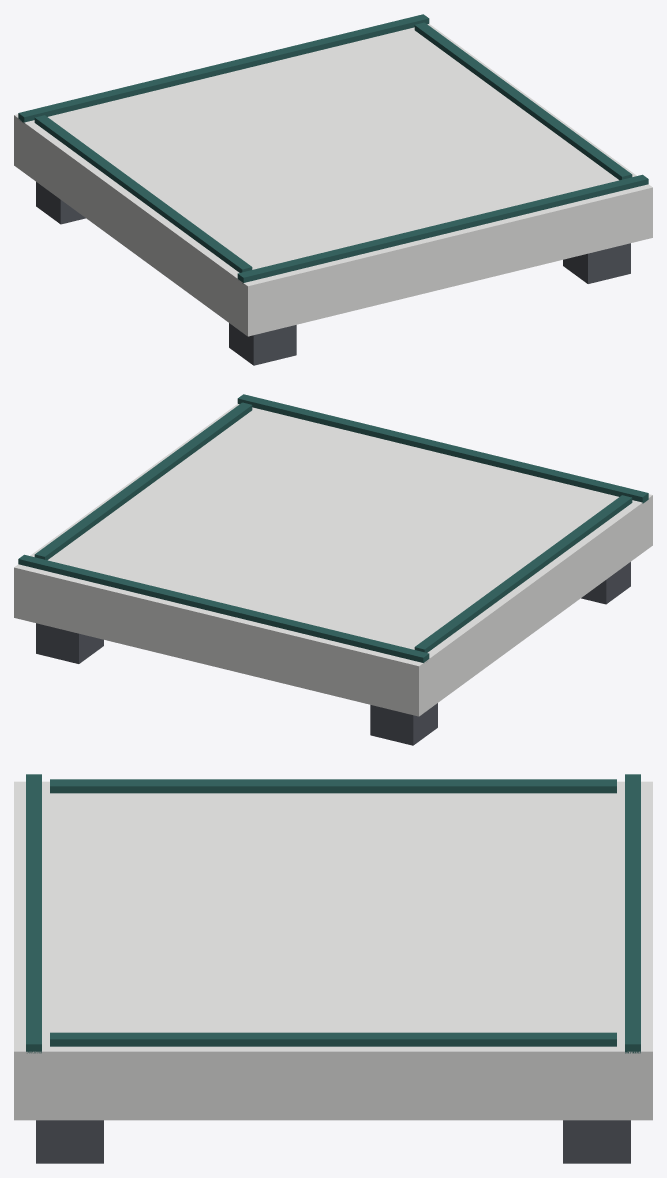
File: Platform_M.fbx
3 renders of one model, top to bottom at view 1: azimuth 30°, elevation 25°; view 2: azimuth 150°, elevation 25°; view 3: azimuth 270°, elevation 25°, orthographic. The views are drawn at different scales.
Parts seen in each view (by area): view 1: SM_Platform_M; view 2: SM_Platform_M; view 3: SM_Platform_M.
Boxes of the visible parts, x1=… form: SM_Platform_M: x1=14, y1=14, x2=652, y2=365; SM_Platform_M: x1=14, y1=394, x2=652, y2=745; SM_Platform_M: x1=14, y1=774, x2=652, y2=1163.
Size of the model in its own units: 3.2 by 0.77 by 3.2.
